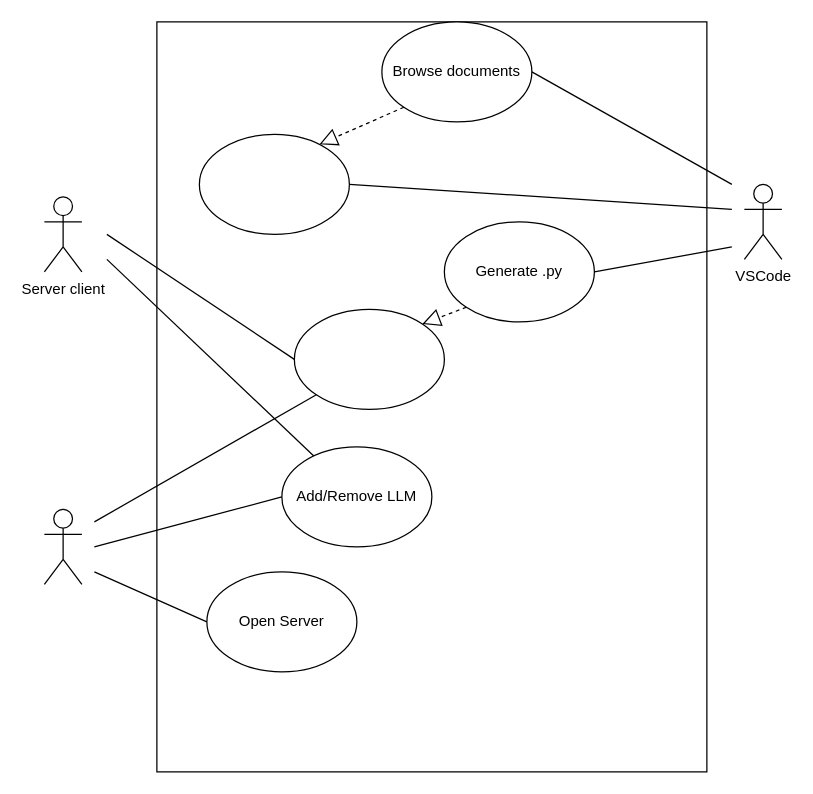
The diagram is 813 pixels wide and 794 high, and some of its shapes have lost their labels. The centre of each missing label's shape, as x and y in pixels:
CLI: (62,546)
Edit documents: (273,183)
Generate Prompt: (368,358)
